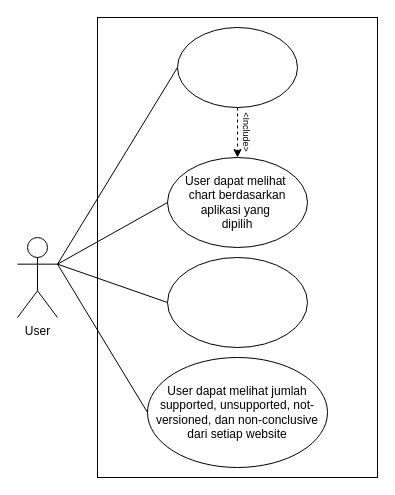
Image size: 395x495. Some labels were removed from this diagram. Each missing label, with the centre of its shape:
"User dapat melihat List Aplikasi" belongs at [237,67].
"User dapat melihat technologi yang paling banyak digunakan website" belongs at [237,302].
